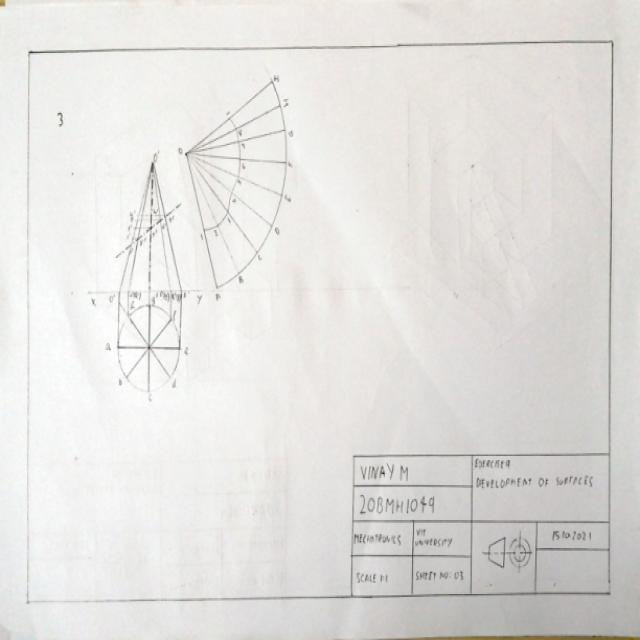Drawings: (48, 57, 324, 427)
